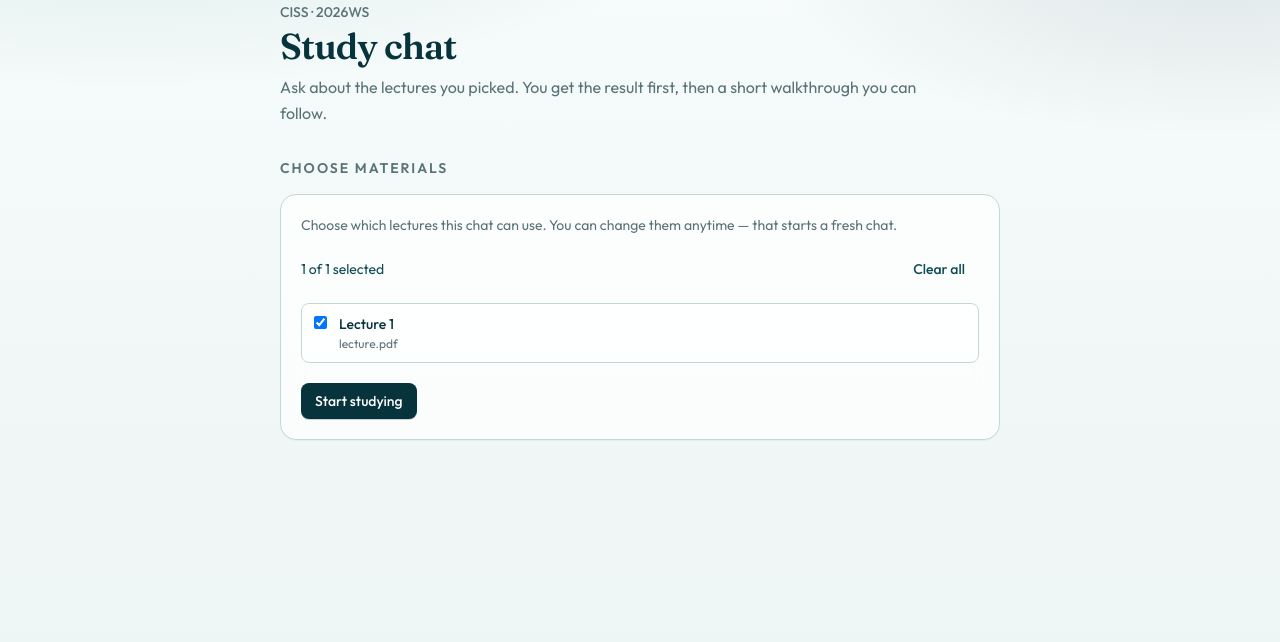
Test case: course study chat page › sends a German-language chat when Deutsch is selected and the chat is restarted
Click the button "Start studying" at (359, 401), box [301,383,417,419]
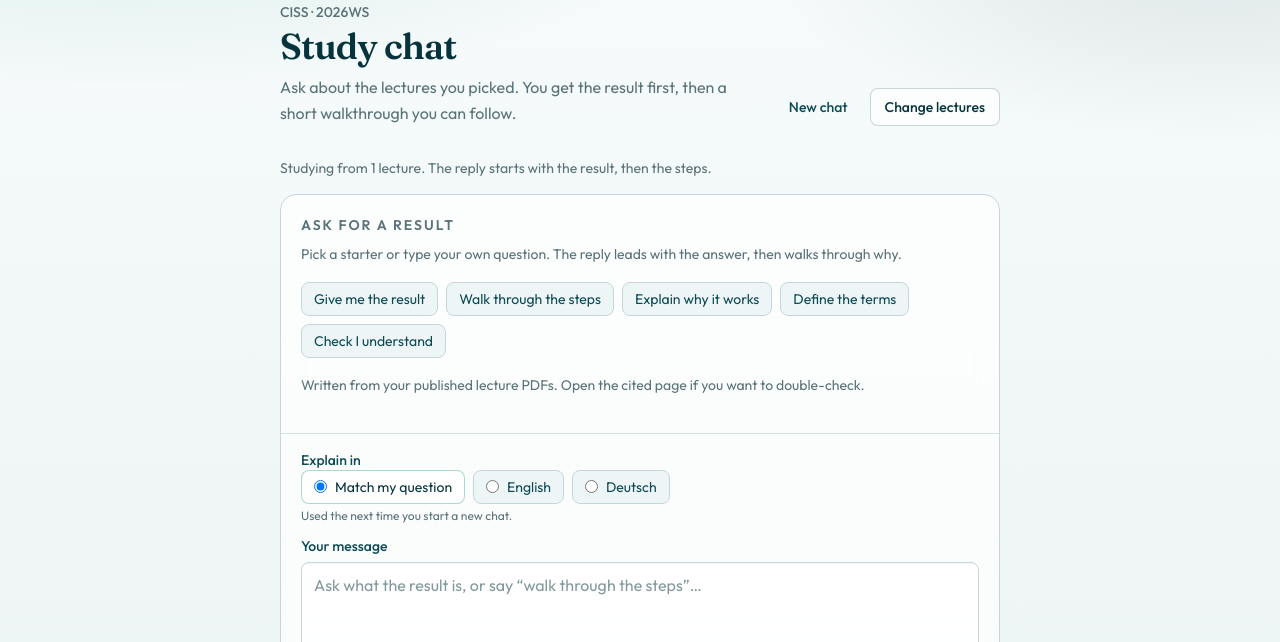
Check: the text "Studying from 1 lecture" is shown, box [280,159,712,177]
Click the radio button labelled "Deutsch" at (592, 486), box [585,480,598,493]
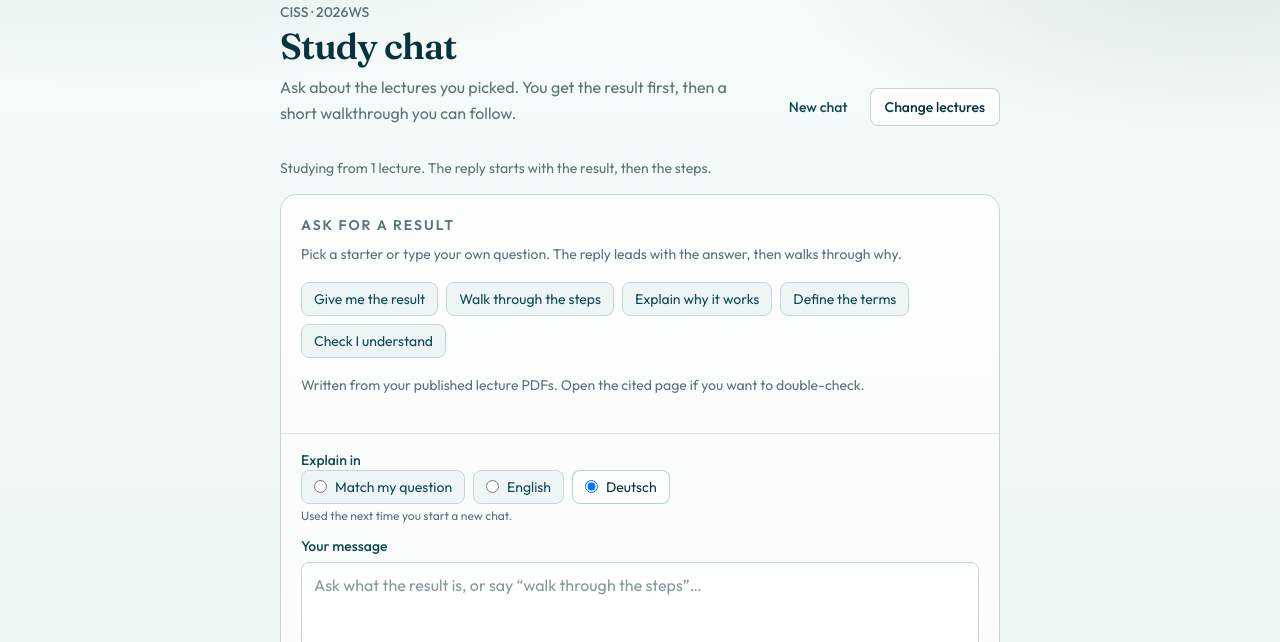
Click the button "New chat" at (818, 107), box [775,88,862,126]
(page scrolled)
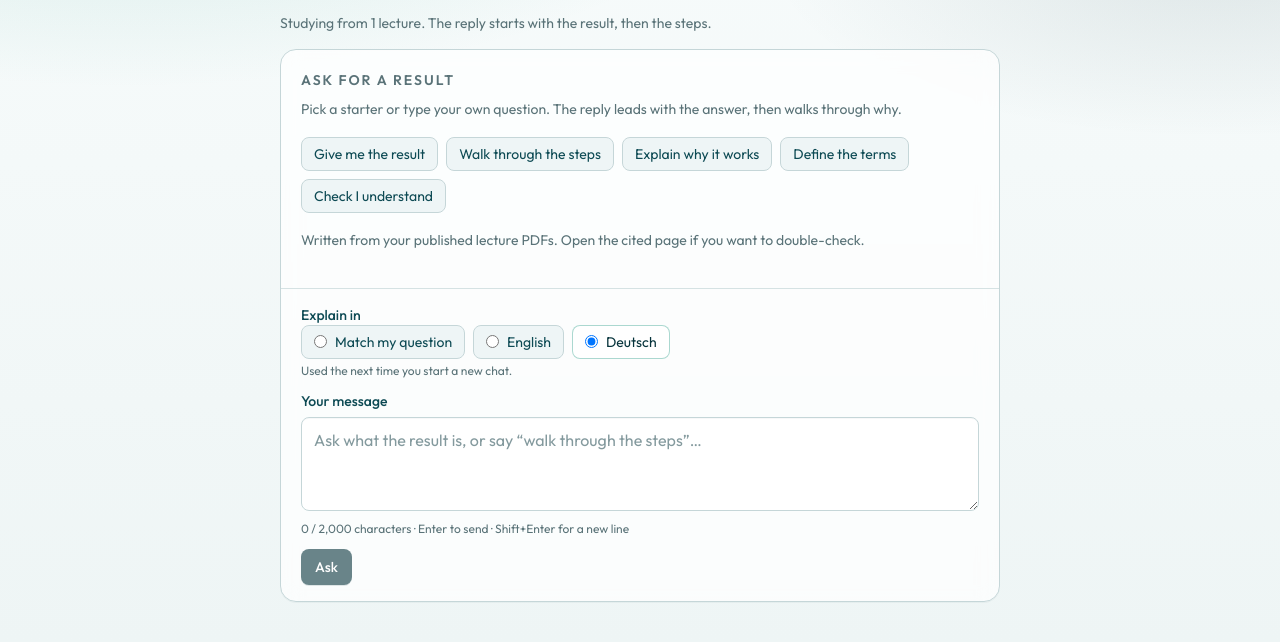
Type "What is consensus?" into the text box labelled "Your message" at (640, 464), box [301,416,979,510]
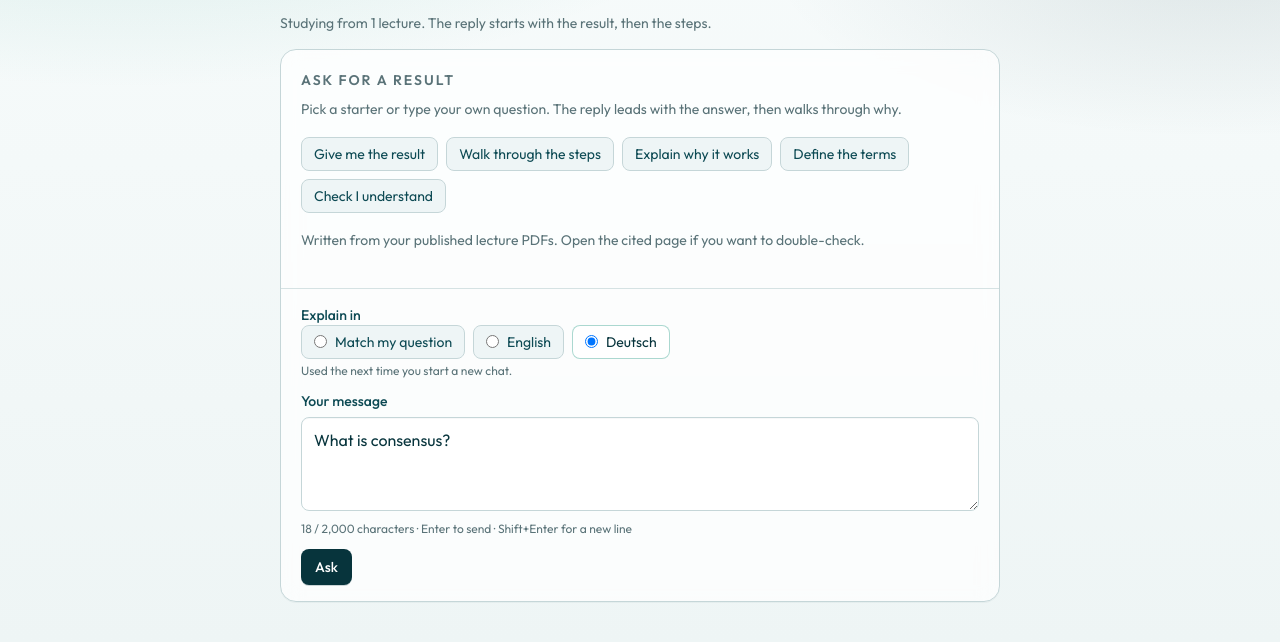
Click the button "Ask" at (326, 566), box [301,548,352,584]
(page scrolled)
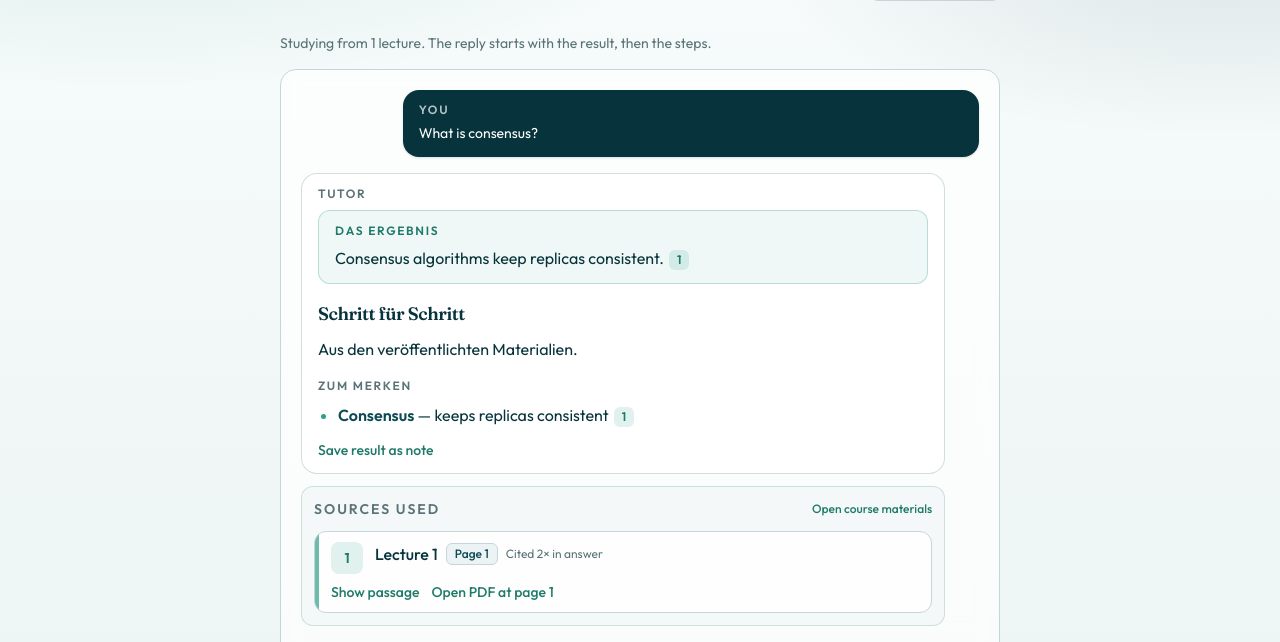
Check: the heading "Das Ergebnis" is shown, box [335,223,439,238]
